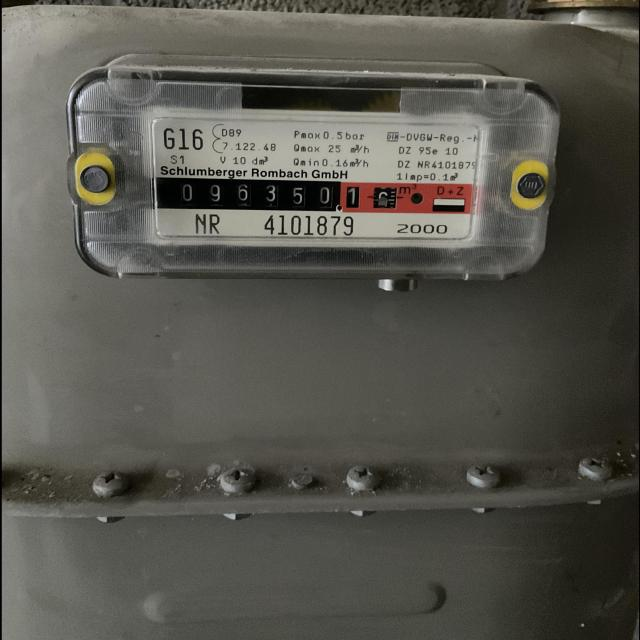gaz_meter: (152, 123, 476, 239)
indication: (160, 178, 400, 215)
